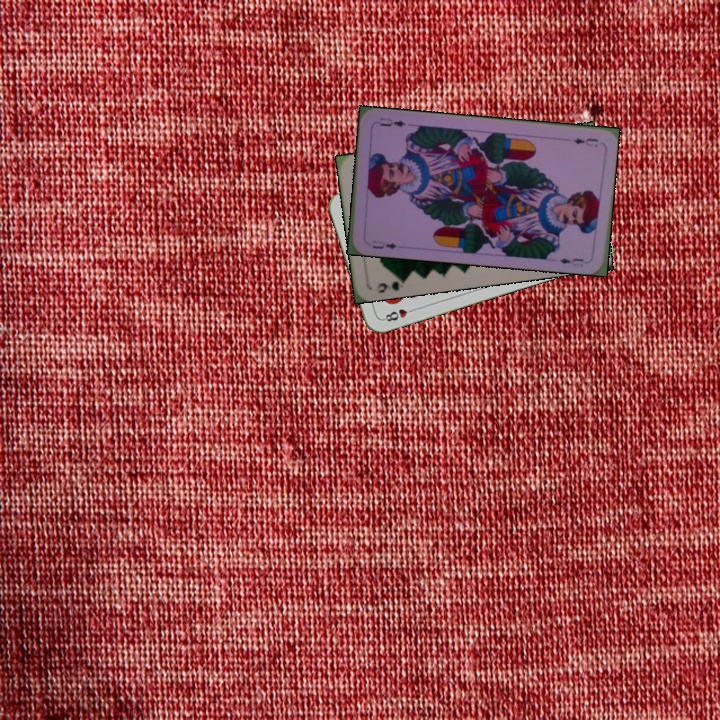EU: (369, 236, 400, 252), (570, 134, 601, 150)
G9: (373, 273, 408, 295)
H8: (379, 304, 418, 324)
